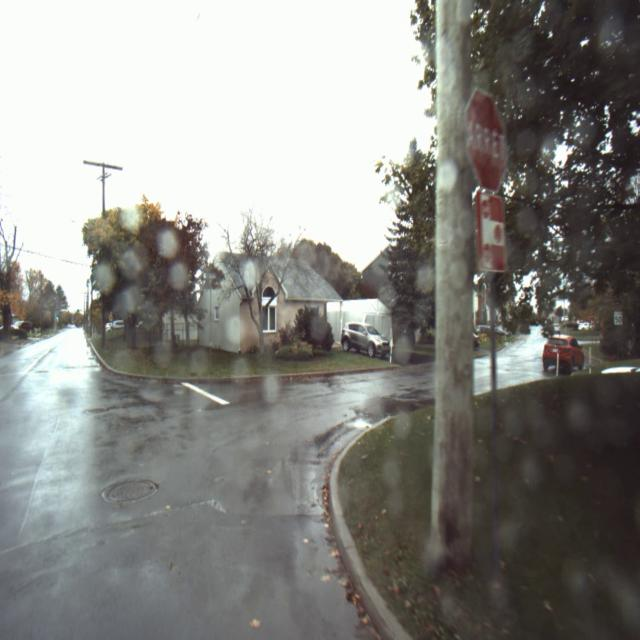car: (338, 314, 392, 365)
